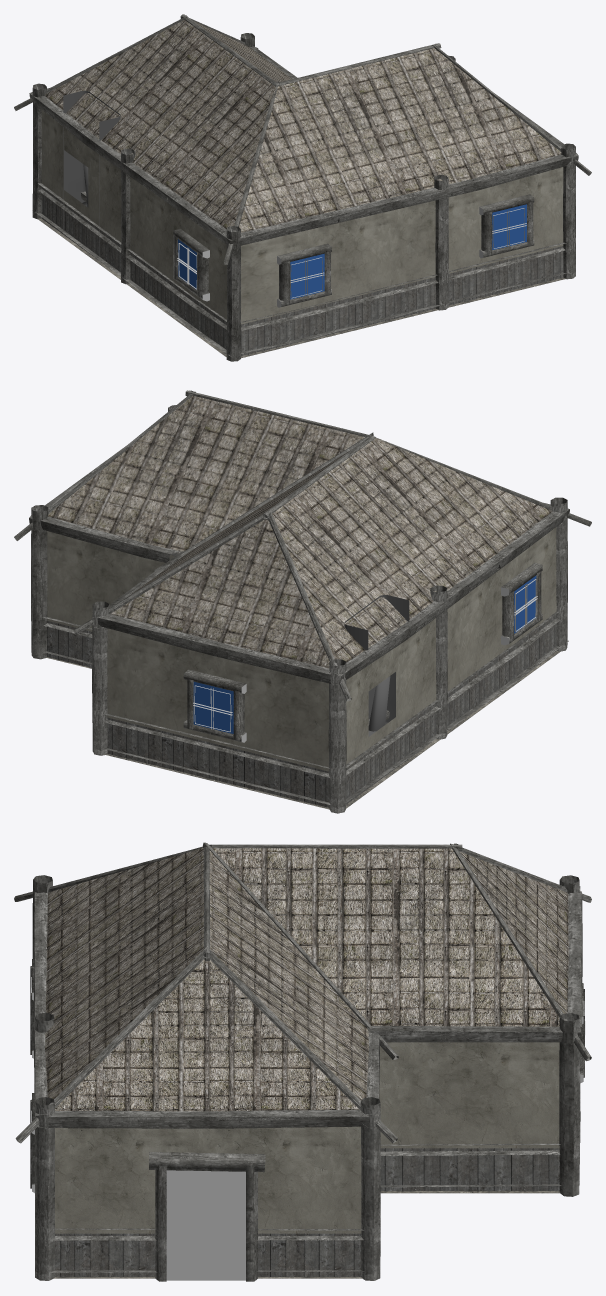
File: mw_type_3_cottage_03_int.FBX
3 renders of one model, top to bottom at view 1: azimuth 30°, elevation 25°; view 2: azimuth 150°, elevation 25°; view 3: azimuth 270°, elevation 25°, orthographic. The views are drawn at different scales.
Visible parts, largest first — view 1: mw_type_3_cottage_03_roof, mw_type_3_cottage_03_wood, mw_type_3_cottage_03_walls, mw_type_3_cottage_03_int, mw_type_3_cottage_03_stone; view 2: mw_type_3_cottage_03_roof, mw_type_3_cottage_03_wood, mw_type_3_cottage_03_walls, mw_type_3_cottage_03_int, mw_type_3_cottage_03_stone; view 3: mw_type_3_cottage_03_roof, mw_type_3_cottage_03_wood, mw_type_3_cottage_03_walls, mw_type_3_cottage_03_int.
Part boxes in pixels (box(x1,y1,x2,y2)): mw_type_3_cottage_03_roof: box(45, 20, 561, 232); mw_type_3_cottage_03_wood: box(14, 14, 591, 361); mw_type_3_cottage_03_walls: box(41, 110, 563, 324); mw_type_3_cottage_03_int: box(177, 204, 526, 299); mw_type_3_cottage_03_stone: box(63, 90, 120, 256); mw_type_3_cottage_03_roof: box(48, 395, 552, 668); mw_type_3_cottage_03_wood: box(14, 390, 591, 813); mw_type_3_cottage_03_walls: box(47, 527, 556, 771); mw_type_3_cottage_03_int: box(193, 575, 537, 733); mw_type_3_cottage_03_stone: box(344, 595, 409, 736); mw_type_3_cottage_03_roof: box(45, 846, 568, 1111); mw_type_3_cottage_03_wood: box(14, 842, 591, 1281); mw_type_3_cottage_03_walls: box(55, 1042, 559, 1233); mw_type_3_cottage_03_int: box(31, 977, 585, 1280).
Bounding box in the file's own units: 1180 × 635 × 1181.
